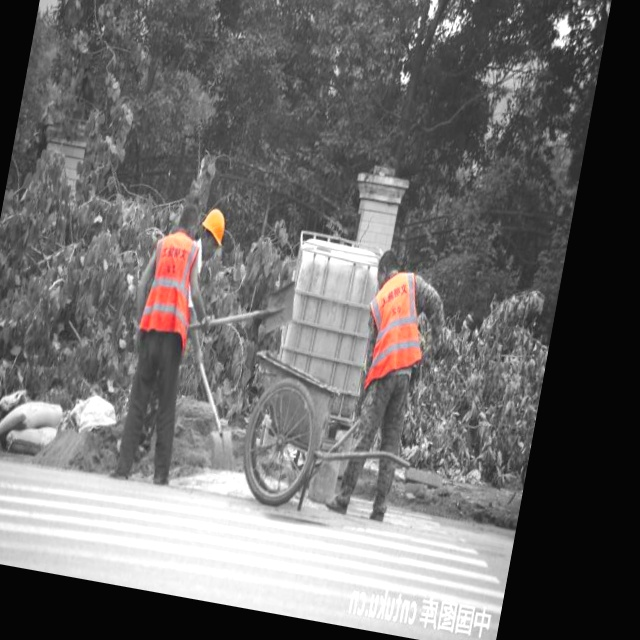Con_Casco: (198, 204, 228, 262)
Con_Chaleco: (360, 271, 429, 387), (136, 229, 202, 342)
Sin_Casco_Mascarrilla: (373, 247, 402, 292)
